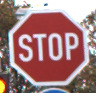stopsign: (9, 10, 88, 86)
